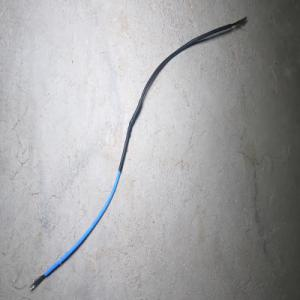Wire: (28, 15, 247, 290)
